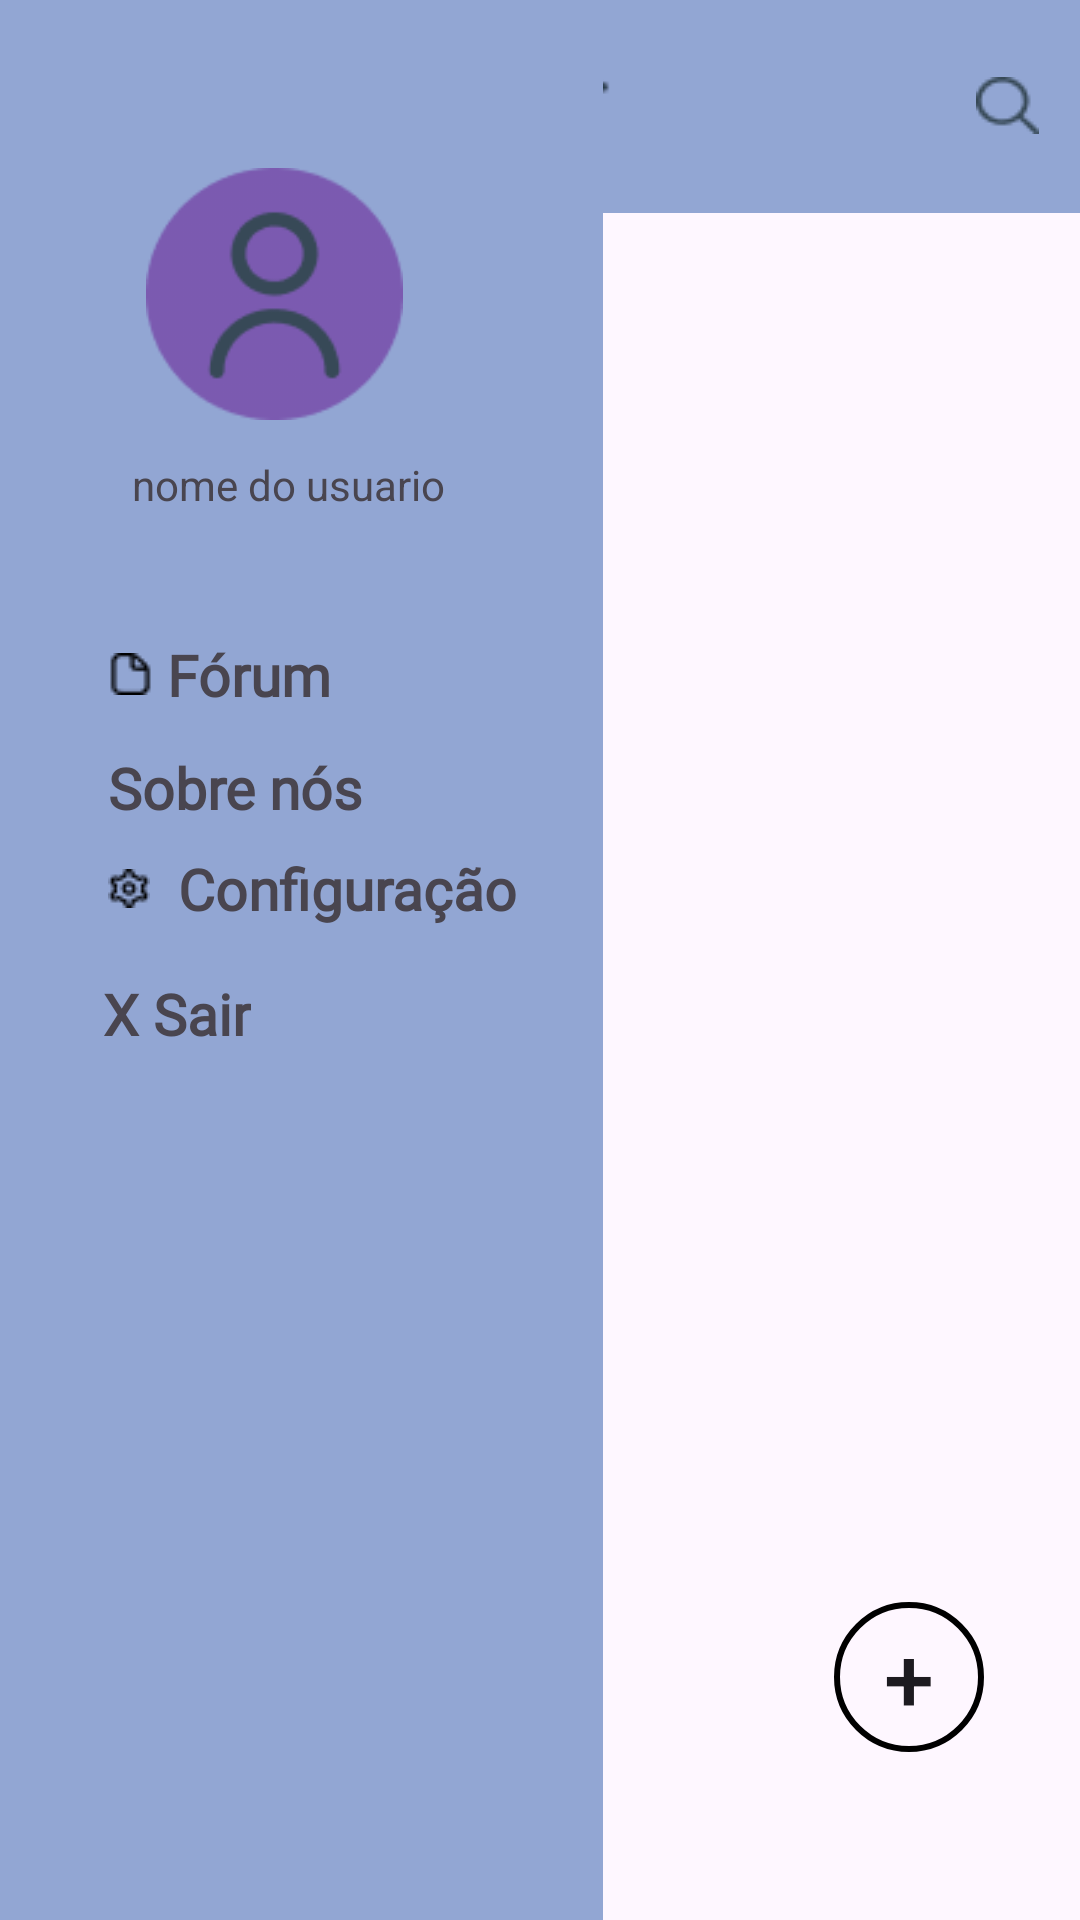

Screen size 1080w x 1920h. Icon name, then its box in pixels as (x1, y1, x2, y2):
pesq: (976, 77, 1039, 134)
